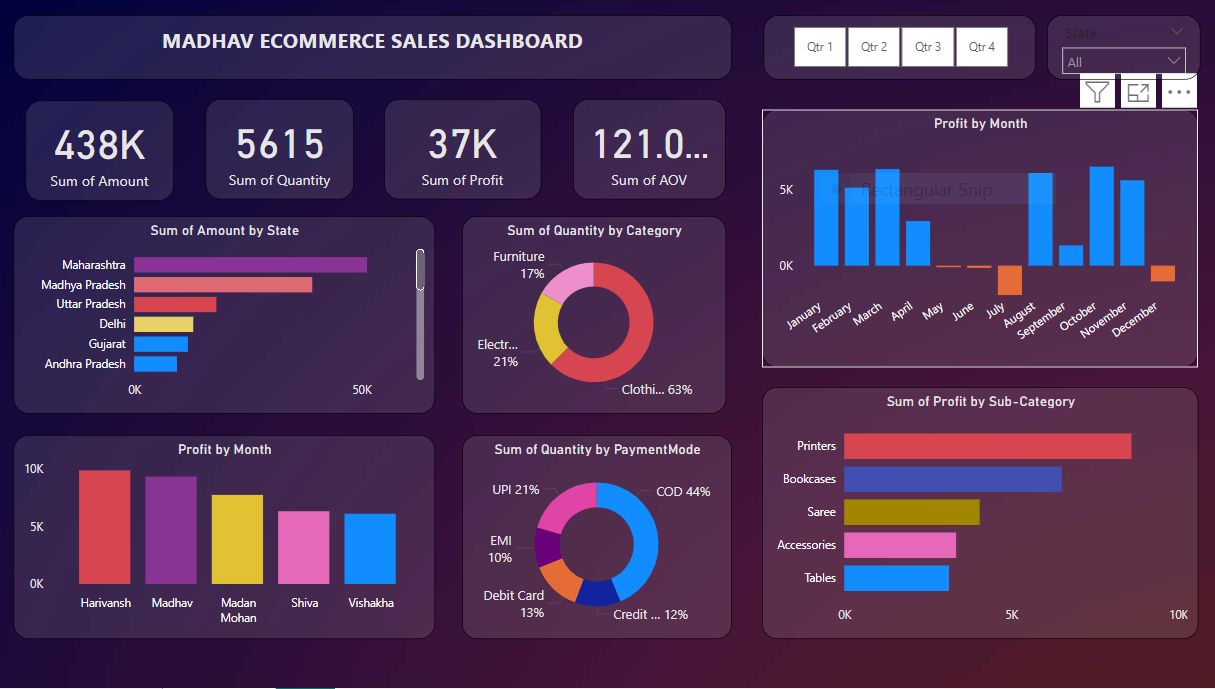

Layout of this report page (visuals, bound fields, positions):
{"tool":"powerbi","page":{"name":"Page 1","canvas":[1280,720],"ordinal":0},"visuals":[{"type":"textbox","box":[23.4,18.8,748.7,67.2],"z":0},{"type":"columnChart","title":" Profit by Month","fields":{"Y":["Details.Profit"],"Category":["Orders.Order Date.Variation.Date Hierarchy.Month"]},"box":[803.4,117.2,454.8,268.8],"z":1000},{"type":"barChart","fields":{"Category":["Details.Sub-Category"],"Y":["Details.Profit"]},"box":[803.4,406.4,454.8,262.6],"z":2000},{"type":"donutChart","fields":{"Category":["Details.Category"],"Y":["Details.Quantity"]},"box":[490.8,228.2,275.1,206.3],"z":3000},{"type":"donutChart","fields":{"Y":["Details.Quantity"],"Series":["Details.PaymentMode"]},"box":[490.8,456.4,281.3,212.6],"z":4000},{"type":"card","fields":{"Values":["Details.Amount"]},"box":[35.9,107.8,154.7,104.7],"z":5000},{"type":"card","fields":{"Values":["Details.Quantity"]},"box":[223.5,106.3,154.7,104.7],"z":6000},{"type":"card","fields":{"Values":["Details.Profit"]},"box":[409.5,106.3,164.1,104.7],"z":7000},{"type":"card","fields":{"Values":["Details.AOV"]},"box":[606.4,106.3,159.4,104.7],"z":8000},{"type":"barChart","fields":{"Category":["Orders.State"],"Y":["Details.Amount"]},"box":[23.4,228.2,439.2,206.3],"z":9000},{"type":"columnChart","title":" Profit by Month","fields":{"Y":["Details.Amount"],"Category":["Orders.CustomerName"]},"box":[23.4,456.4,439.2,212.6],"z":10000},{"type":"slicer","fields":{"Values":["Orders.Order Date.Variation.Date Hierarchy.Quarter"]},"box":[804.3,18.6,284.3,67.1],"z":11000},{"type":"slicer","fields":{"Values":["Orders.State"]},"box":[1100,18.6,160,67.1],"z":12000}]}

Visuals, with their boxes in screenshot pixels (x1, y1, x2, y2), scaled from the page's 1280x720 canvas onto the 1215x689 screenshot:
textbox: 22,18,733,82
" Profit by Month" columnChart: 763,112,1194,369
barChart - Details.Sub-Category x Details.Profit: 763,389,1194,640
donutChart - Details.Category x Details.Quantity: 466,218,727,416
donutChart - Details.Quantity x Details.PaymentMode: 466,437,733,640
card - Details.Amount: 34,103,181,203
card - Details.Quantity: 212,102,359,202
card - Details.Profit: 389,102,544,202
card - Details.AOV: 576,102,727,202
barChart - Orders.State x Details.Amount: 22,218,439,416
" Profit by Month" columnChart: 22,437,439,640
slicer - Orders.Order Date.Variation.Date Hierarchy.Quarter: 763,18,1033,82
slicer - Orders.State: 1044,18,1196,82
